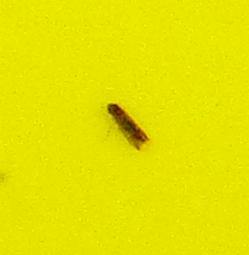Hemiptera: (100, 100, 149, 155)
